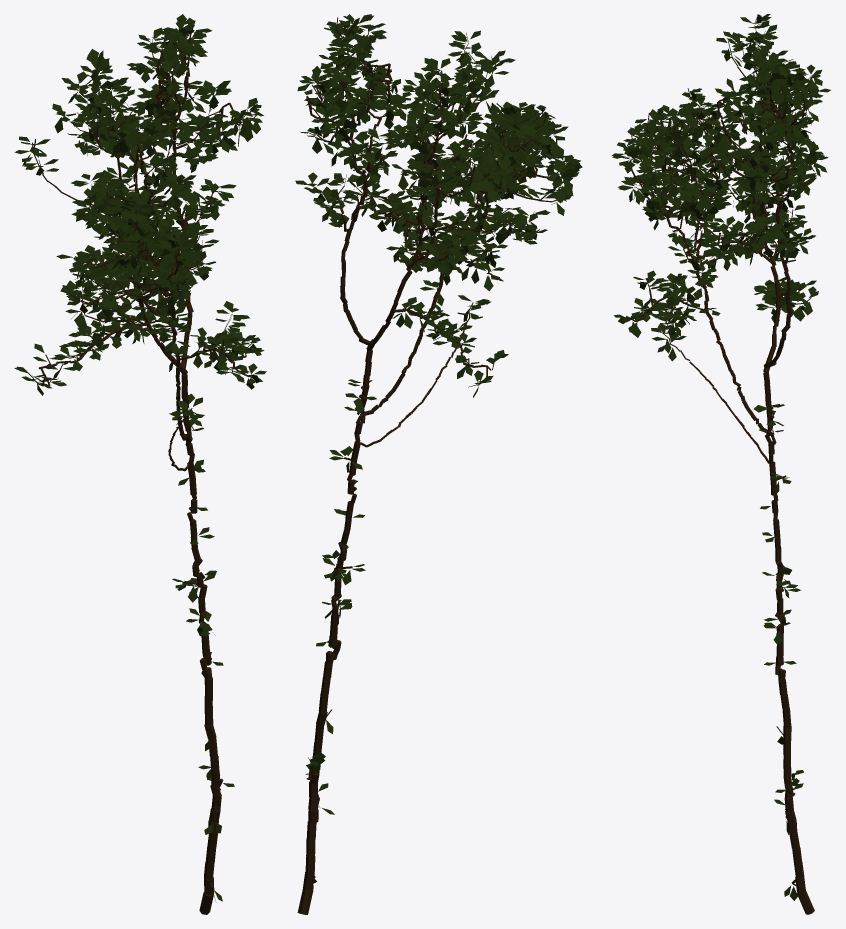
The model's file is tree_271.obj.
3 views of the same model, side by side, from view 1: azimuth 30°, elevation 25°; view 2: azimuth 150°, elevation 25°; view 3: azimuth 270°, elevation 25° (orthographic). The views are drawn at different scales.
Parts seen in each view (by area): view 1: Leaves, TrunkAndBranches; view 2: Leaves, TrunkAndBranches; view 3: Leaves, TrunkAndBranches.
Boxes of the visible parts, left/top/right/bottom form: Leaves: left=14, top=14, right=266, bottom=902; TrunkAndBranches: left=28, top=20, right=256, bottom=914; Leaves: left=295, top=14, right=582, bottom=888; TrunkAndBranches: left=297, top=17, right=564, bottom=914; Leaves: left=612, top=14, right=830, bottom=900; TrunkAndBranches: left=626, top=17, right=814, bottom=914.
Size of the model in its own units: 4.58 by 17.13 by 4.07.
